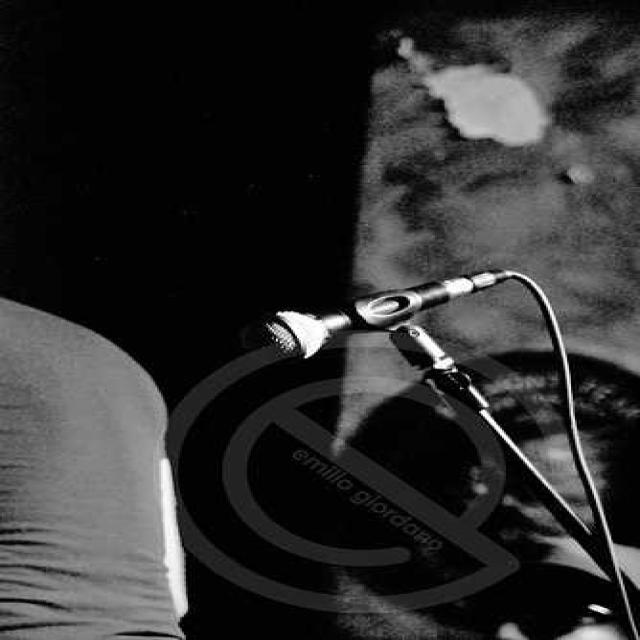microphone: (248, 270, 500, 360)
